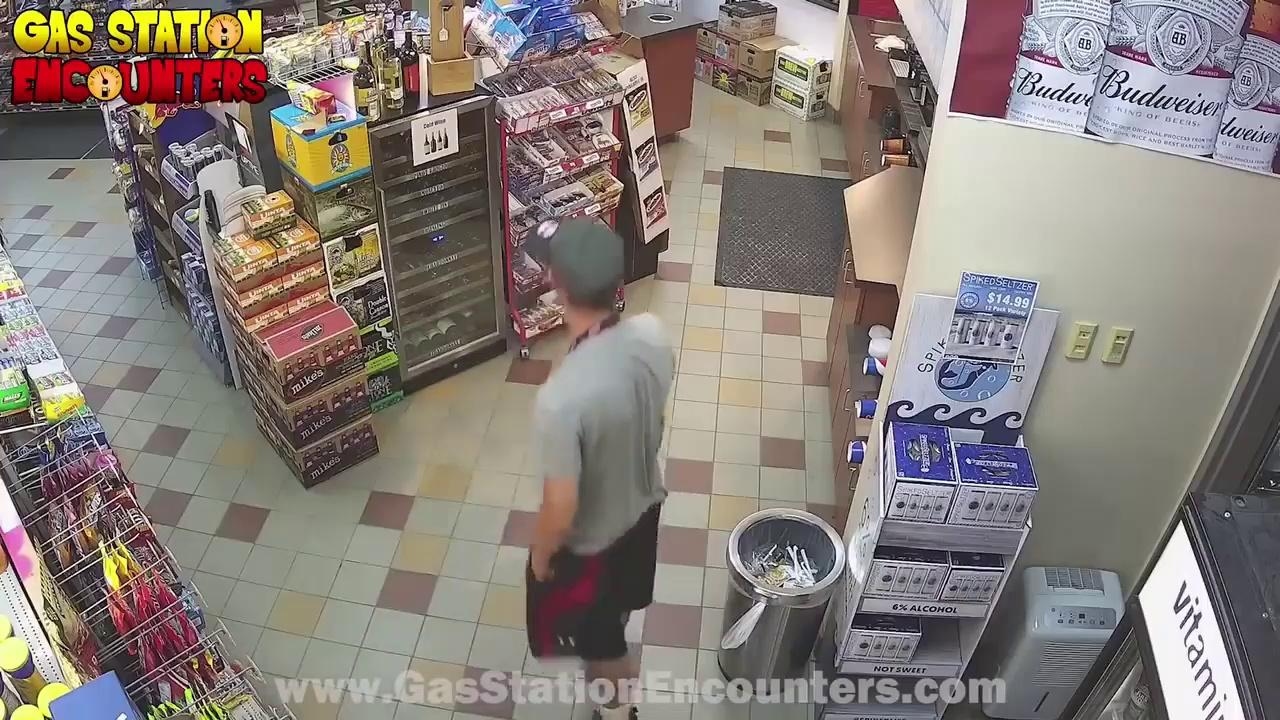Regular: (375, 255, 740, 720)
